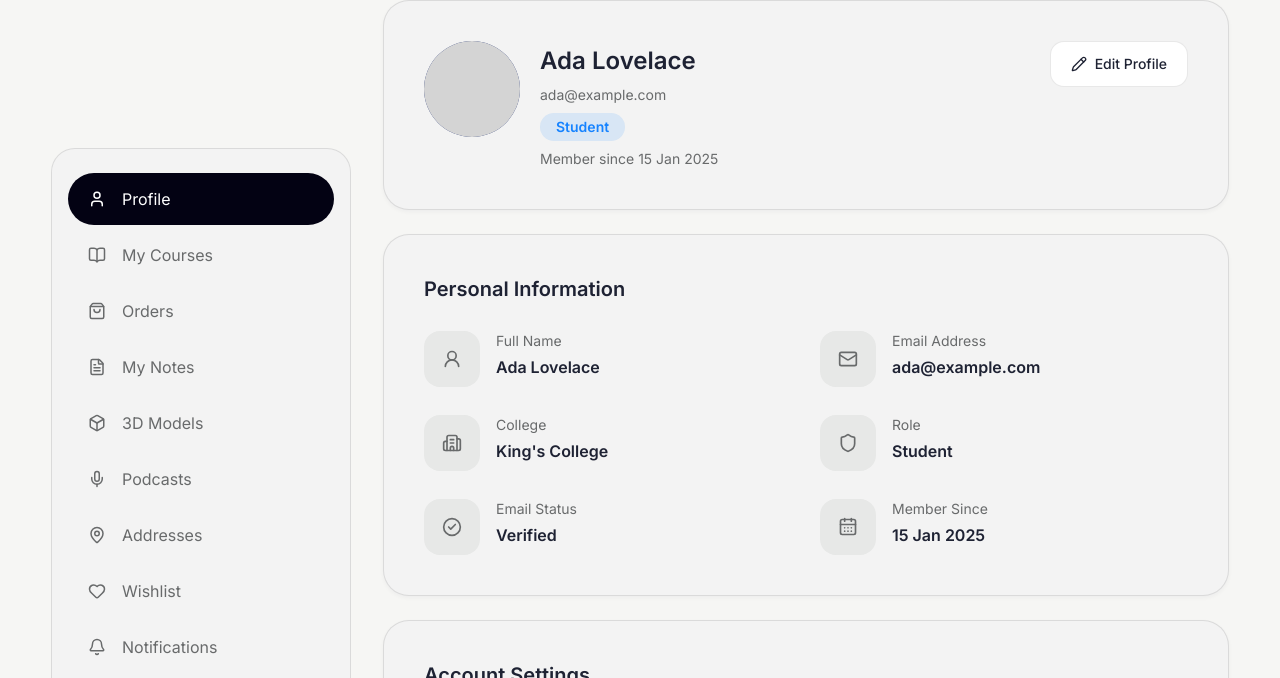
Test: navigation › switches to the Orders section instead of only highlighting it
Click the button "Orders" at (148, 311), box x1=68 y1=285 x2=334 y2=337
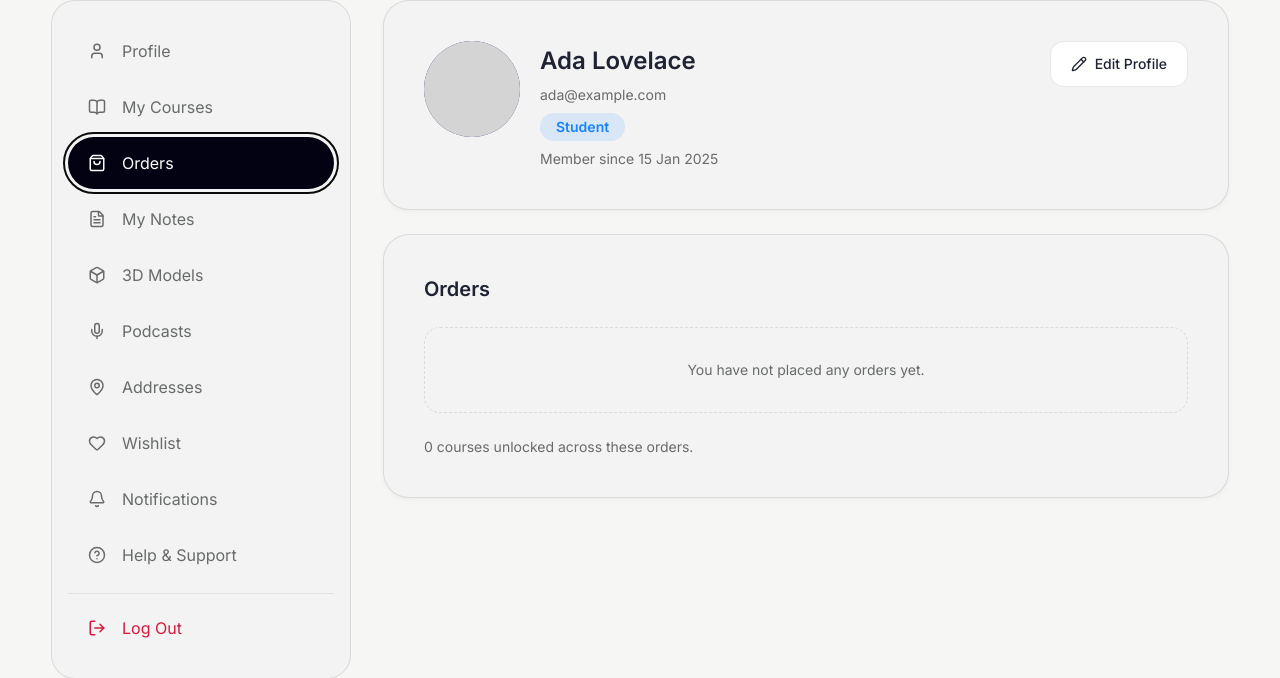
Expected: the heading "Orders" is shown, x1=424 y1=277 x2=490 y2=301
